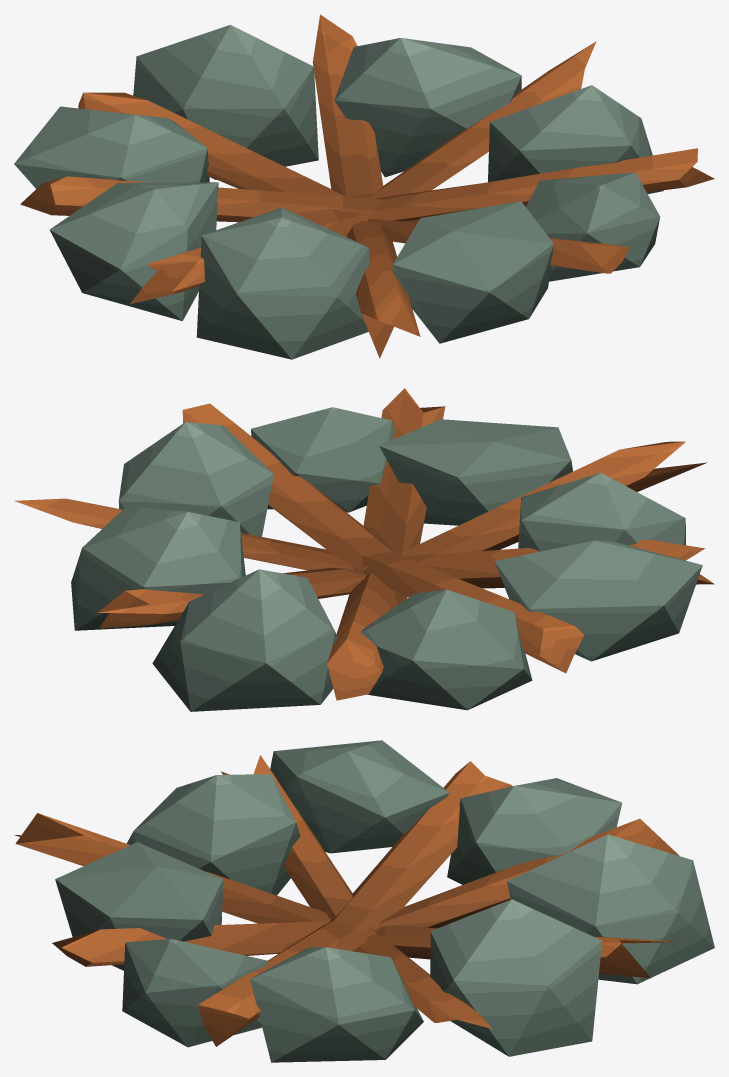
File: bonfire.fbx
3 views of the same model, one above another, from view 1: azimuth 30°, elevation 25°; view 2: azimuth 150°, elevation 25°; view 3: azimuth 270°, elevation 25° (orthographic).
Visible parts, largest first — view 1: Cylinder.008; view 2: Cylinder.008; view 3: Cylinder.008.
Part boxes in pixels (x1=…): Cylinder.008: x1=14, y1=14, x2=714, y2=359; Cylinder.008: x1=14, y1=388, x2=714, y2=711; Cylinder.008: x1=14, y1=740, x2=714, y2=1062.
Bounding box in the file's own units: 165 × 31.31 × 169.
